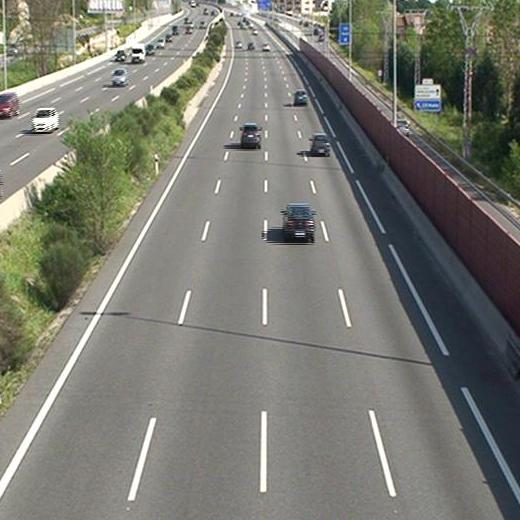car: (282, 206, 316, 240), (241, 124, 261, 148), (311, 135, 329, 157), (293, 89, 307, 104)
